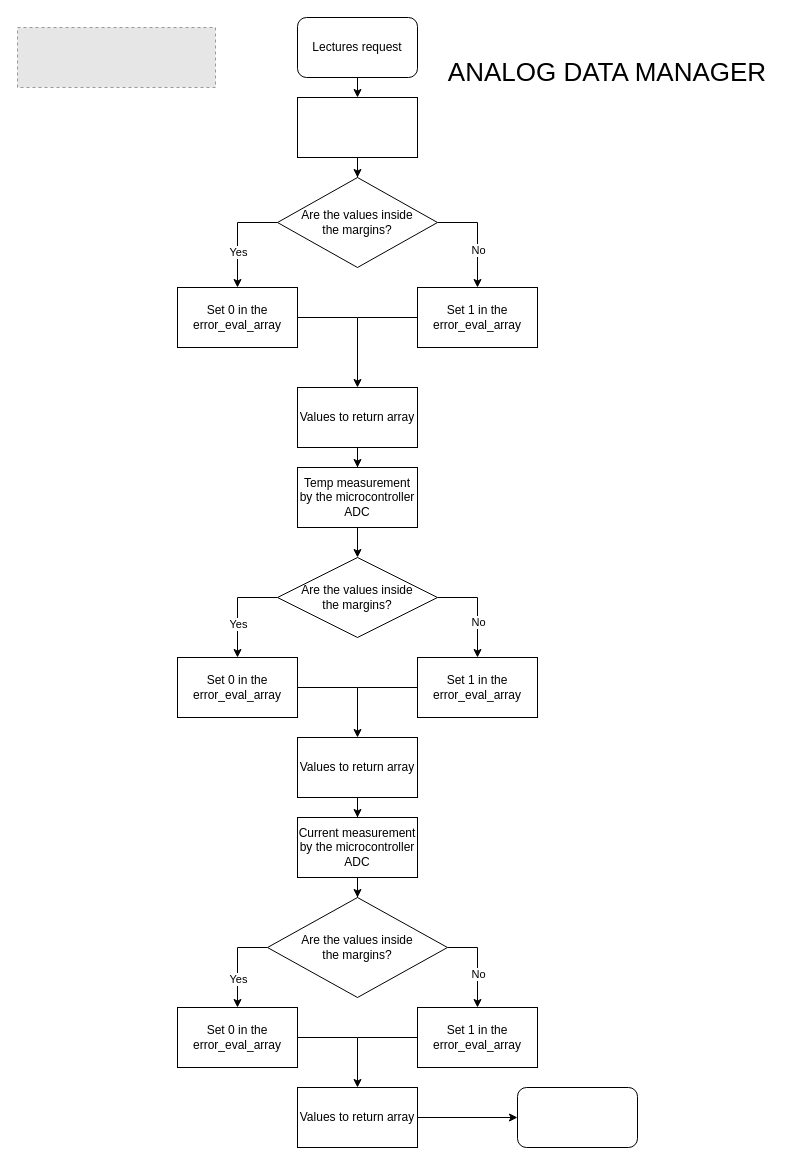
This 795x1165 diagram has some shape labels left out. Grey dashed boxes stand in for pictures. The shapes that lost their labels are listed below. From the top down, each one's centre as x and y in pixels, then its label:
At (x=357, y=127): "Read Slave voltage by SPI".
At (x=577, y=1117): "Return array".
